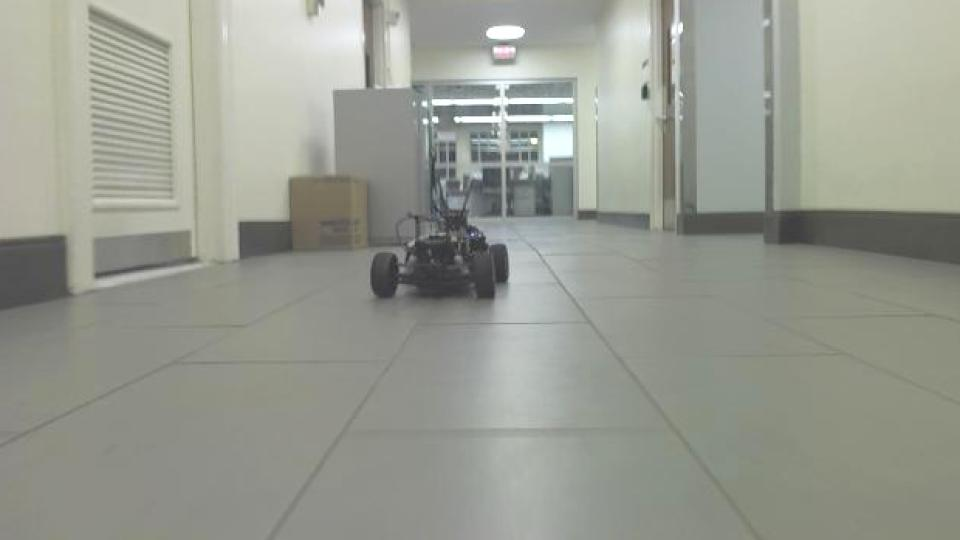car: (369, 172, 514, 304)
